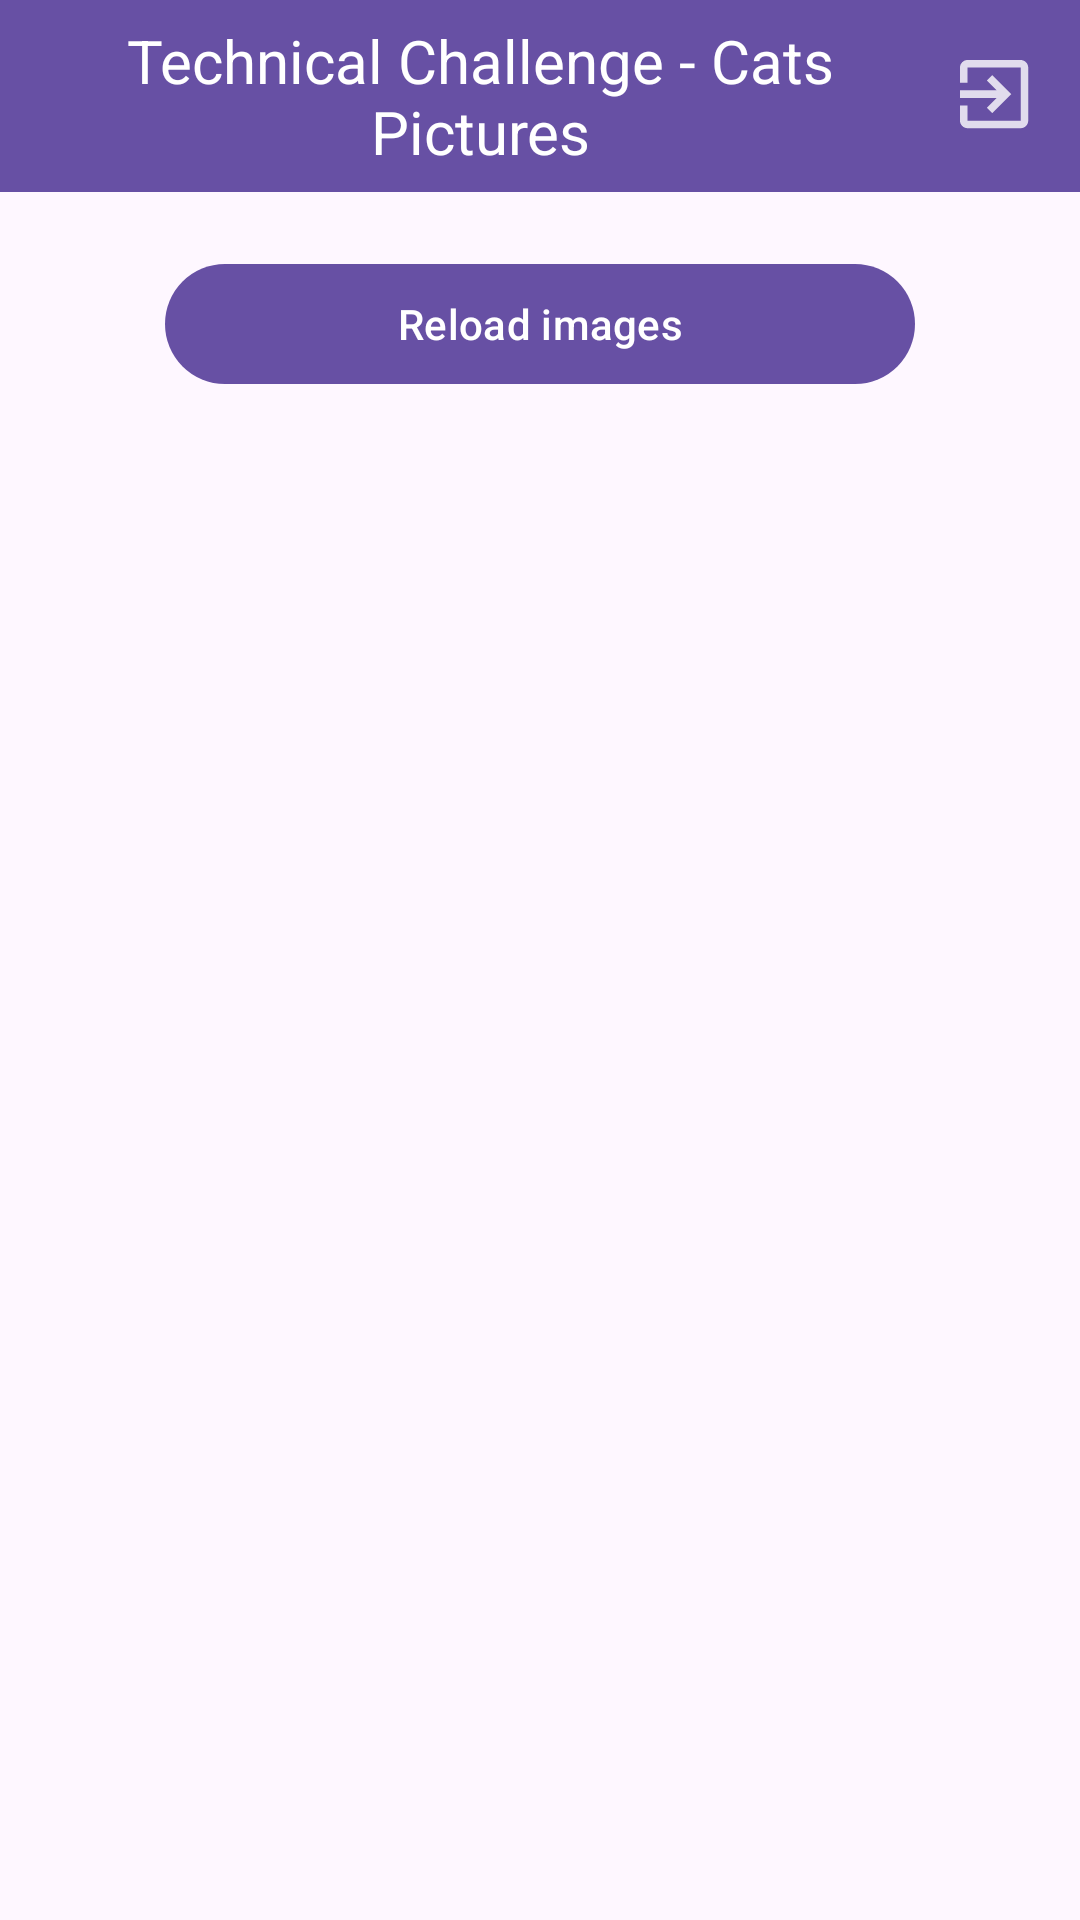

Named icons in this screenshot (1080x1920) and their centers, (x,y):
exit: (994,94)
